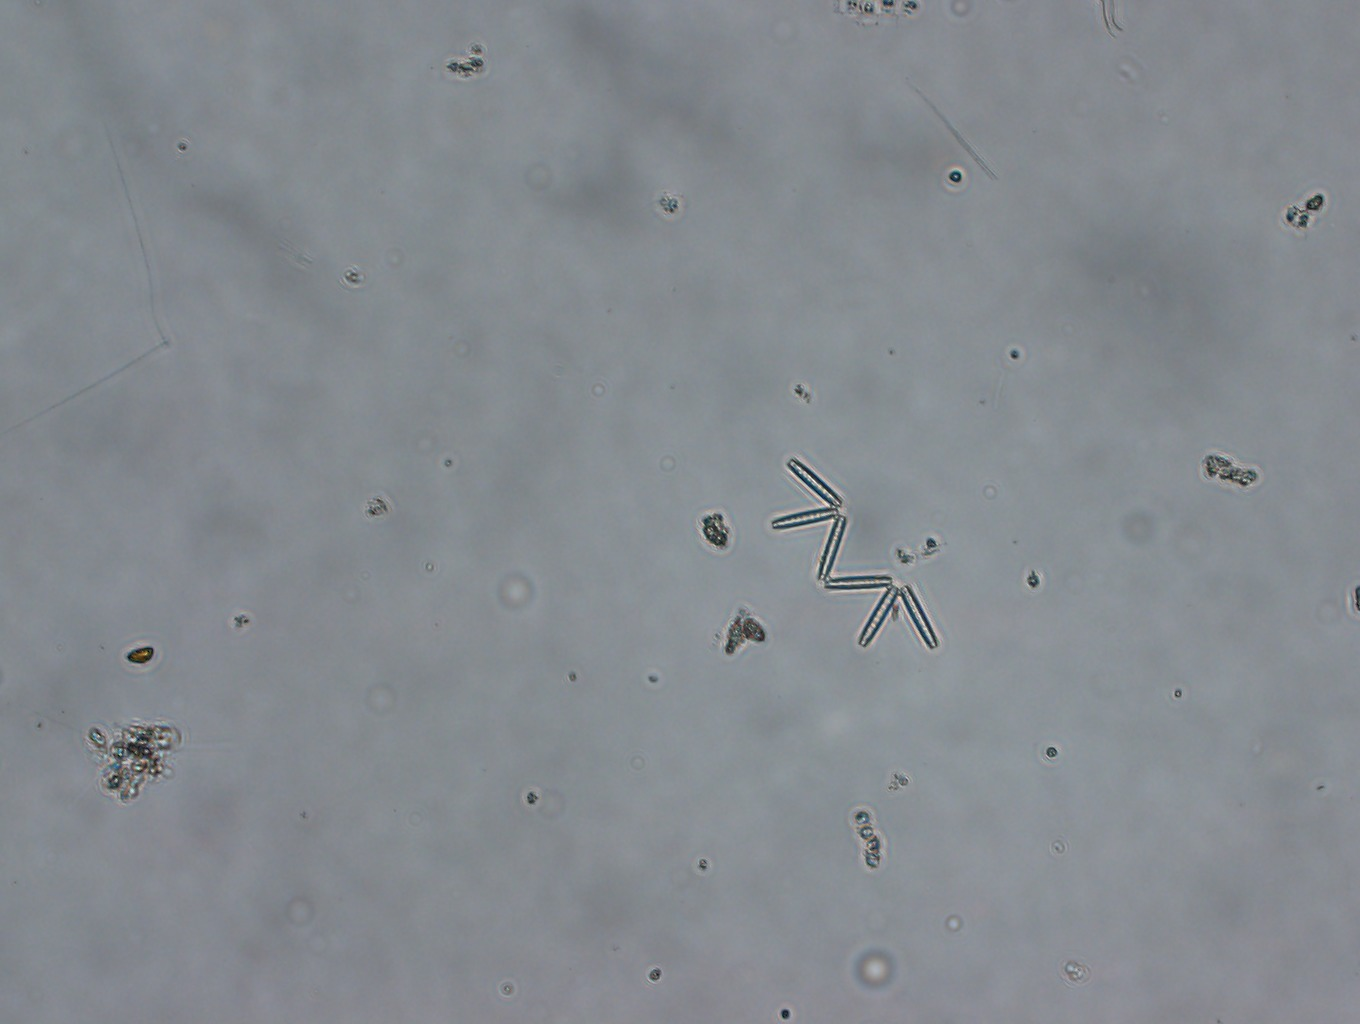thalassionema nitzschioides: (772, 453, 941, 655)
